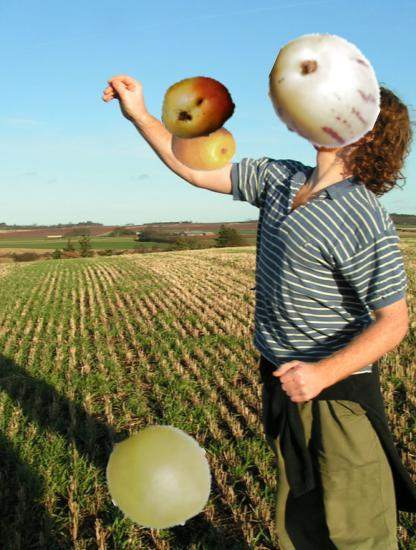Grape: (107, 425, 213, 531)
Kumquats: (170, 113, 237, 180)
Papaya: (160, 70, 235, 145)
Pepino: (268, 32, 385, 149)
